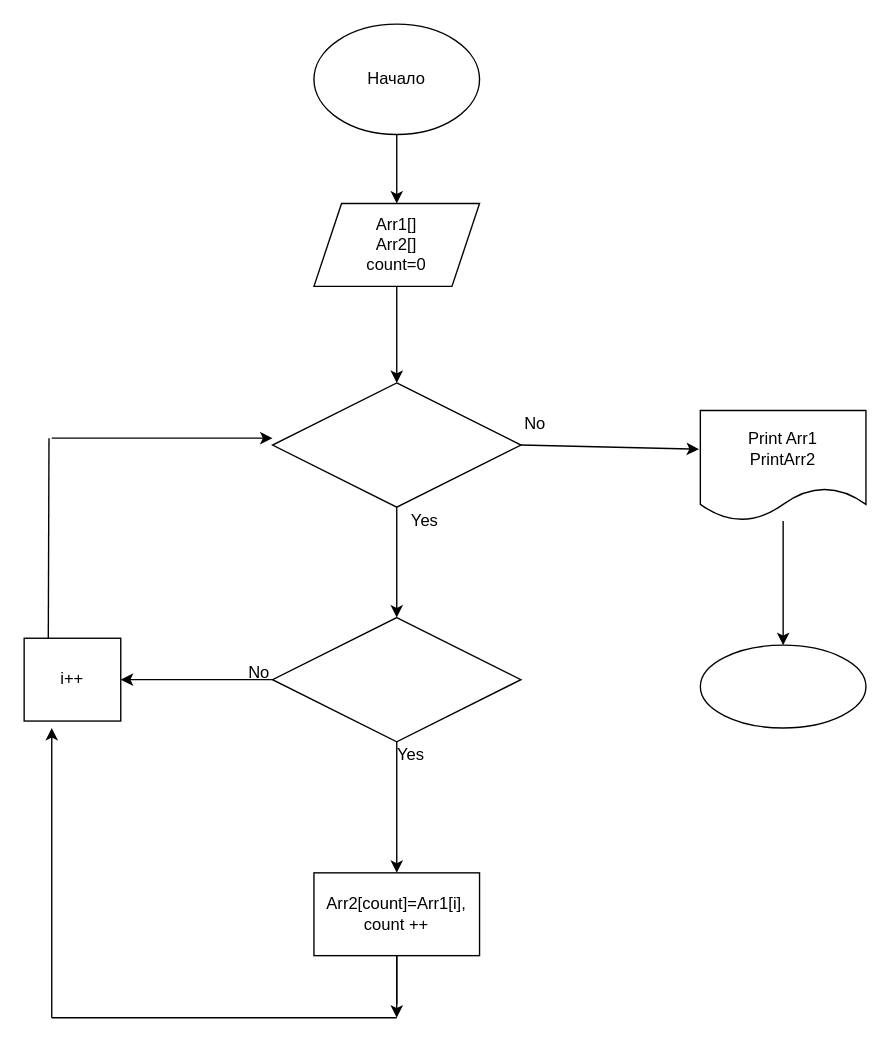
This 890x1053 diagram has some shape labels left out. The centre of each missing label's shape, as x and y in pixels:
Arr1[i]Length<=3: (x=396, y=679)
int=0; i<array.Length; i++: (x=396, y=444)
Конец: (x=782, y=686)
